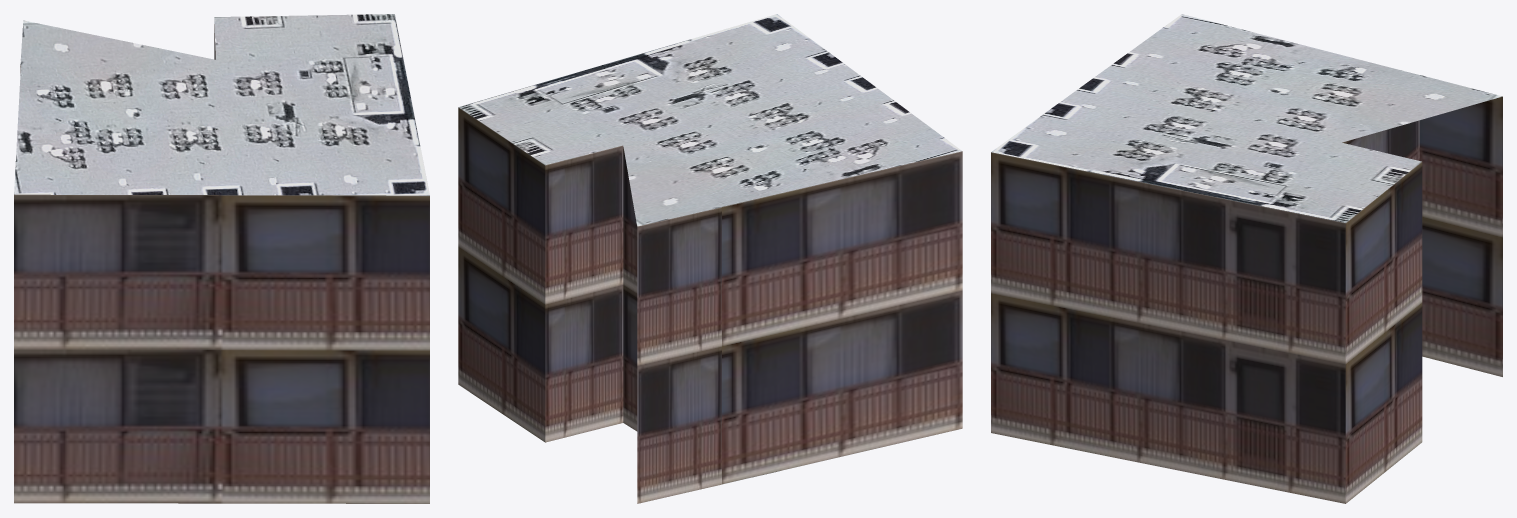
The model's file is ResTex__5141.fbx.
The picture shows the model from 3 angles, left to right: view 1: azimuth 30°, elevation 25°; view 2: azimuth 150°, elevation 25°; view 3: azimuth 270°, elevation 25°; orthographic projection. The views are drawn at different scales.
Parts seen in each view (by area): view 1: CityEngineMaterial_6_m, CityEngineMaterial_8_m; view 2: CityEngineMaterial_6_m, CityEngineMaterial_8_m; view 3: CityEngineMaterial_6_m, CityEngineMaterial_8_m.
Part boxes in pixels (x1,y1,x2,y2): CityEngineMaterial_6_m: [14, 24, 429, 503]; CityEngineMaterial_8_m: [14, 14, 429, 195]; CityEngineMaterial_6_m: [458, 107, 962, 503]; CityEngineMaterial_8_m: [458, 14, 962, 484]; CityEngineMaterial_6_m: [991, 96, 1502, 503]; CityEngineMaterial_8_m: [991, 14, 1502, 222].
Bounding box in the file's own units: 9.59 × 6 × 9.91.
2 materials, 2 textured.
